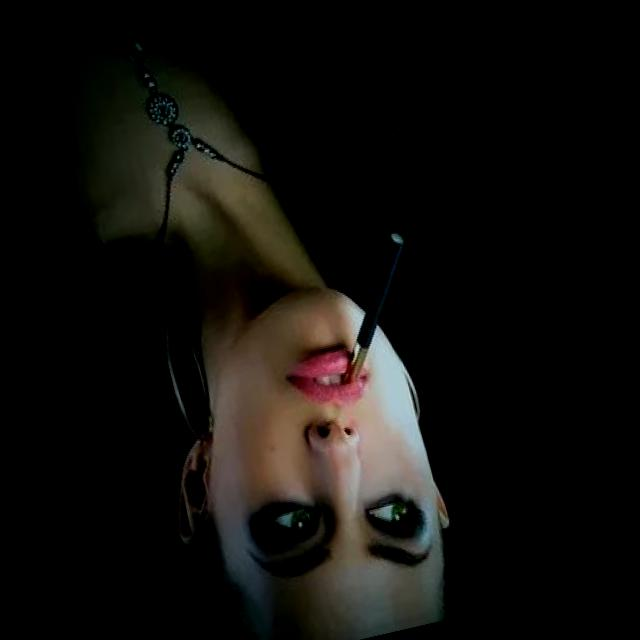cigarette: (308, 225, 434, 389)
